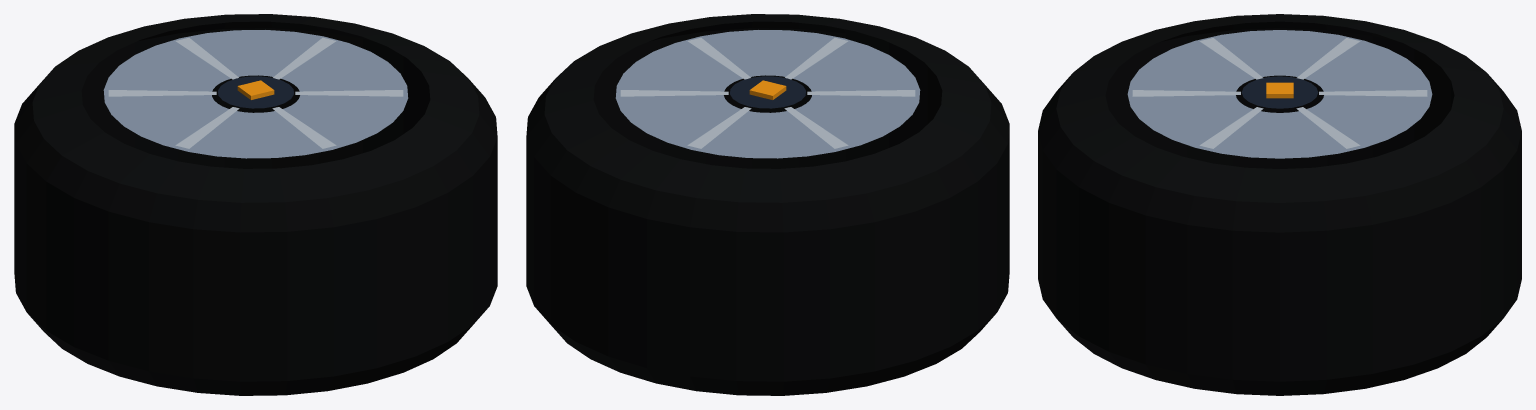
Rendered from APEX_GT3_Wheel.obj.
3 views of the same model, side by side, from view 1: azimuth 30°, elevation 25°; view 2: azimuth 150°, elevation 25°; view 3: azimuth 270°, elevation 25° (orthographic).
Size of the model in its own units: 2 by 1.05 by 2.
